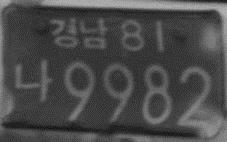1: (150, 15, 169, 56)
2: (178, 63, 216, 134)
8: (142, 61, 174, 121), (117, 16, 146, 53)
9: (63, 58, 97, 124), (101, 61, 135, 125)
경남_O: (47, 14, 109, 52)
나: (13, 57, 53, 103)
